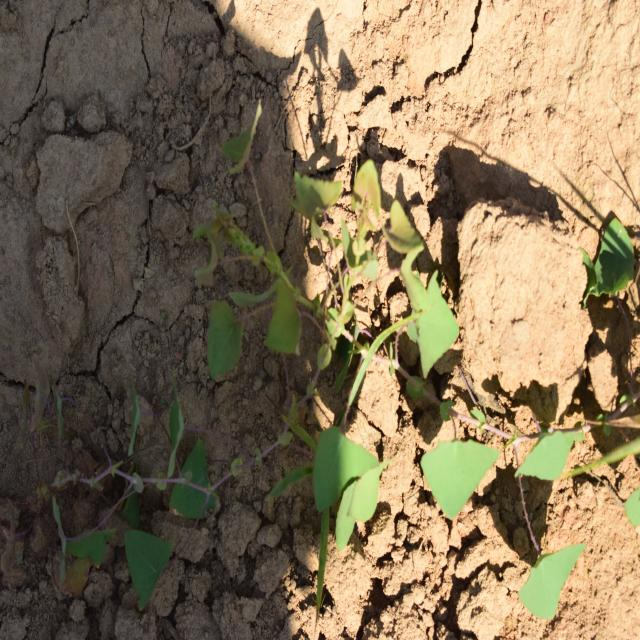Asiatic_Smartweed: (222, 121, 442, 524), (426, 397, 586, 621), (47, 386, 220, 587)
